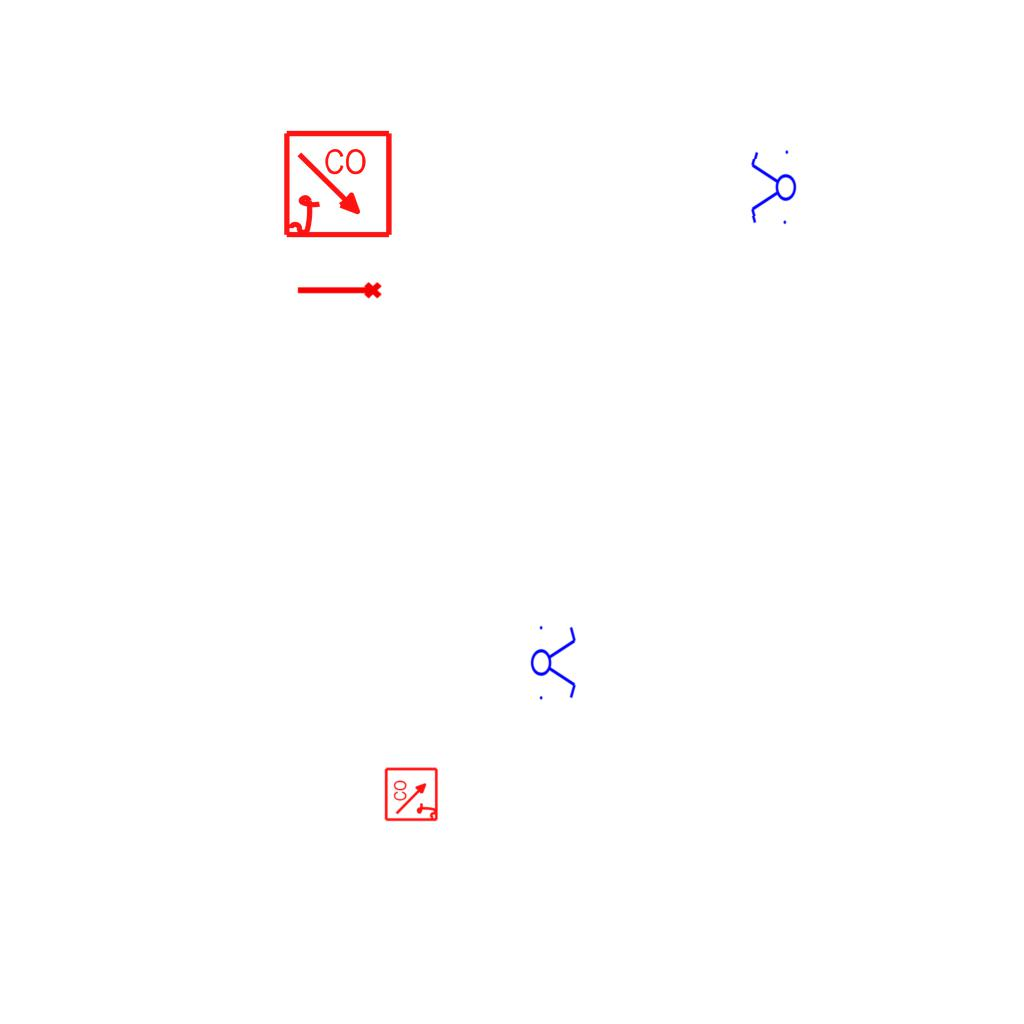ASR_Ansaugoeffnung: (295, 280, 383, 303)
ROA_Rauchmelder_optisch_mit_Signalgeber_(Sockelsirene): (282, 129, 395, 242), (384, 766, 440, 822)
Serienschalter: (748, 145, 798, 231), (530, 620, 578, 704)
